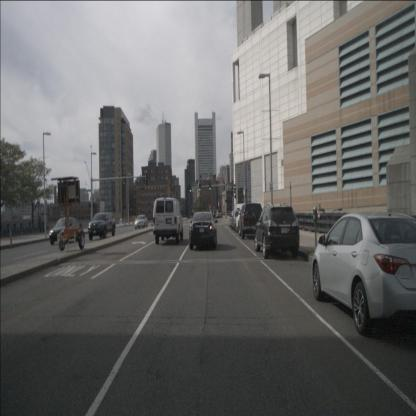movable_object-trafficcone: (9, 228, 13, 248)
vehicle-car: (311, 211, 416, 336), (254, 201, 300, 260), (152, 197, 184, 245), (189, 210, 218, 250), (237, 202, 264, 240), (49, 216, 80, 245), (88, 211, 116, 241), (234, 206, 253, 237), (228, 210, 242, 229), (231, 210, 242, 231), (135, 214, 148, 230), (214, 209, 222, 218), (212, 209, 218, 218)
